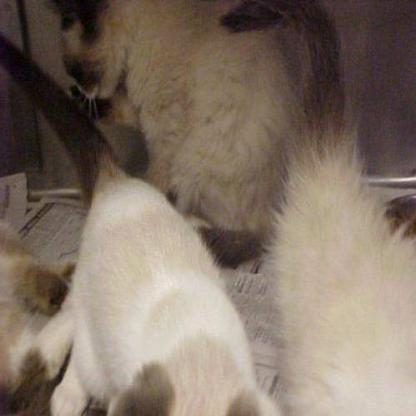cat: (31, 0, 220, 164)
